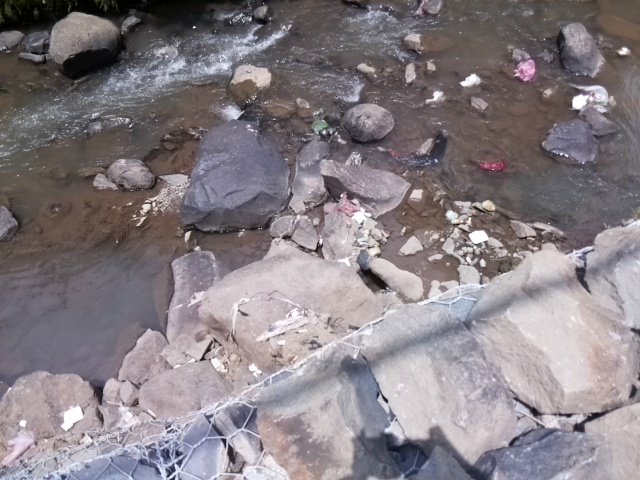Sampah_Plastik: (511, 58, 536, 81), (337, 193, 362, 216), (474, 158, 508, 174)
Sampah_Styrofoam: (59, 405, 86, 425), (459, 73, 485, 90), (467, 228, 490, 246), (569, 93, 587, 111)
